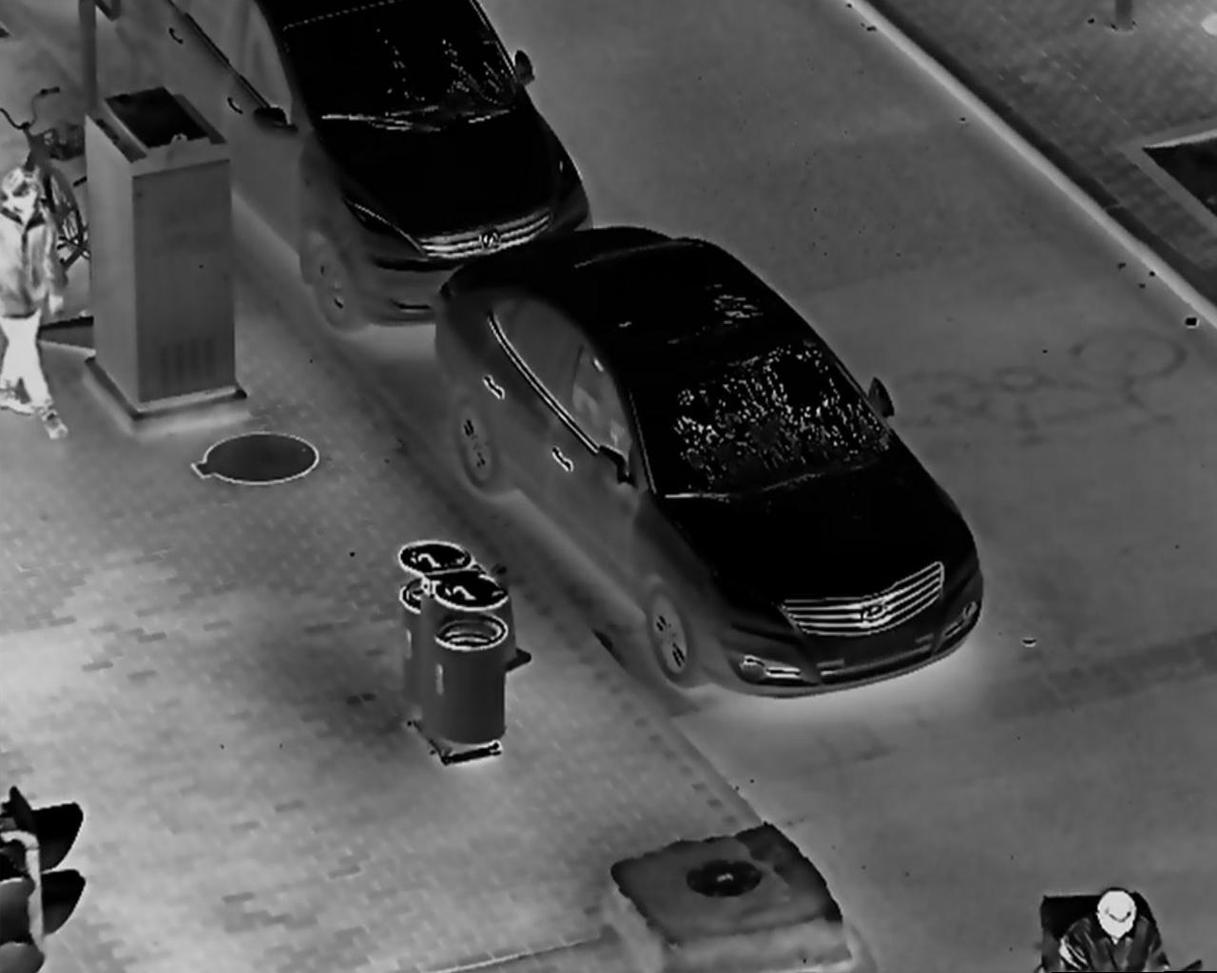person: (1051, 883, 1187, 973)
